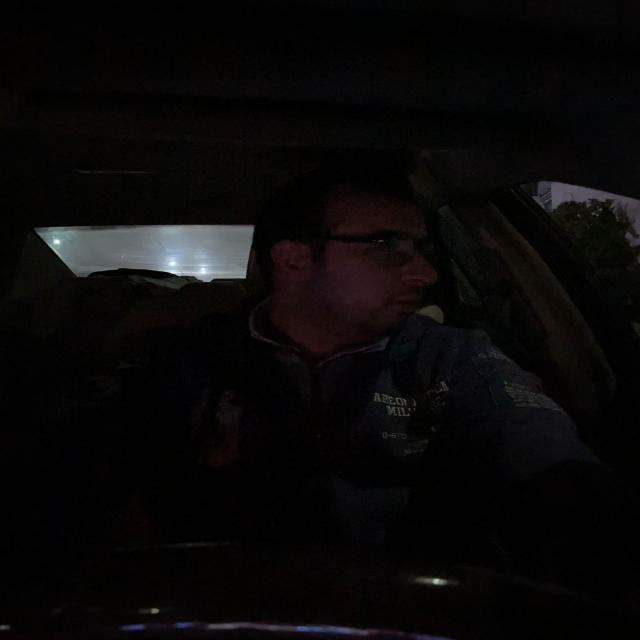LeftRight: (246, 159, 456, 354)
